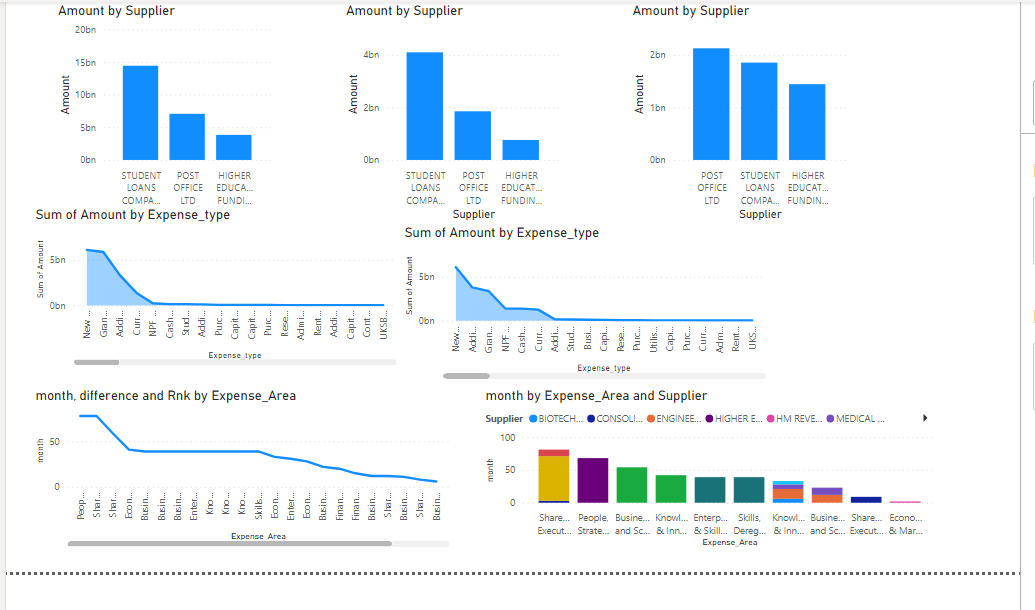

This screenshot's page, from the dashboard's own definition file:
{"tool":"powerbi","page":{"name":"Page 1","canvas":[1280,720],"ordinal":0},"visuals":[{"type":"clusteredColumnChart","fields":{"Y":["Sum(Full_Year_Supplier.Amount)"],"Category":["Full_Year_Supplier.Supplier"]},"box":[60.6,0,280.2,280.2],"z":0},{"type":"columnChart","fields":{"Y":["Sum(quatar3_Supplier.Amount)"],"Category":["quatar3_Supplier.Supplier"]},"box":[424.1,0,280.2,280.2],"z":1000},{"type":"stackedAreaChart","fields":{"Category":["Expense1st6_Months.Expense_type"],"Y":["Sum(Expense1st6_Months.Amount)"]},"box":[32.2,257.5,465.8,206.4],"z":2000},{"type":"columnChart","fields":{"Y":["Sum(quatar2_Supplier.Amount)"],"Category":["quatar2_Supplier.Supplier"]},"box":[785.8,0,280.2,280.2],"z":3000},{"type":"stackedAreaChart","fields":{"Category":["Expense2nd6_Months.Expense_type"],"Y":["Sum(Expense2nd6_Months.Amount)"]},"box":[498,280.2,465.8,200.7],"z":4000},{"type":"lineChart","fields":{"Category":["query_3.Expense_Area"],"Y":["Sum(query_3.month)"]},"box":[32.2,486.6,532.1,206.4],"z":4001},{"type":"columnChart","fields":{"Category":["query_4.Expense_Area"],"Series":["query_4.Supplier"],"Y":["Sum(query_4.month)"]},"box":[600.2,486.6,579.4,206.4],"z":4002}]}

Visuals, with their boxes on the page's 1280x720 design canvas (x1, y1, x2, y2). These are canvas units, not pixel positions in the 1035x610 screenshot, which may show the page scaled, cropped or inside an application window:
clusteredColumnChart - Sum(Full_Year_Supplier.Amount) x Full_Year_Supplier.Supplier: 61:0:341:280
columnChart - Sum(quatar3_Supplier.Amount) x quatar3_Supplier.Supplier: 424:0:704:280
stackedAreaChart - Expense1st6_Months.Expense_type x Sum(Expense1st6_Months.Amount): 32:258:498:464
columnChart - Sum(quatar2_Supplier.Amount) x quatar2_Supplier.Supplier: 786:0:1066:280
stackedAreaChart - Expense2nd6_Months.Expense_type x Sum(Expense2nd6_Months.Amount): 498:280:964:481
lineChart - query_3.Expense_Area x Sum(query_3.month): 32:487:564:693
columnChart - query_4.Expense_Area x query_4.Supplier: 600:487:1180:693
